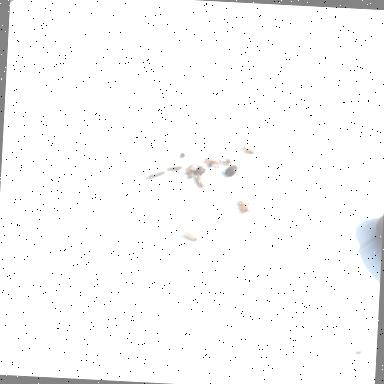pbw: (236, 141, 257, 158), (143, 168, 165, 180), (164, 162, 184, 174), (192, 172, 206, 188)
